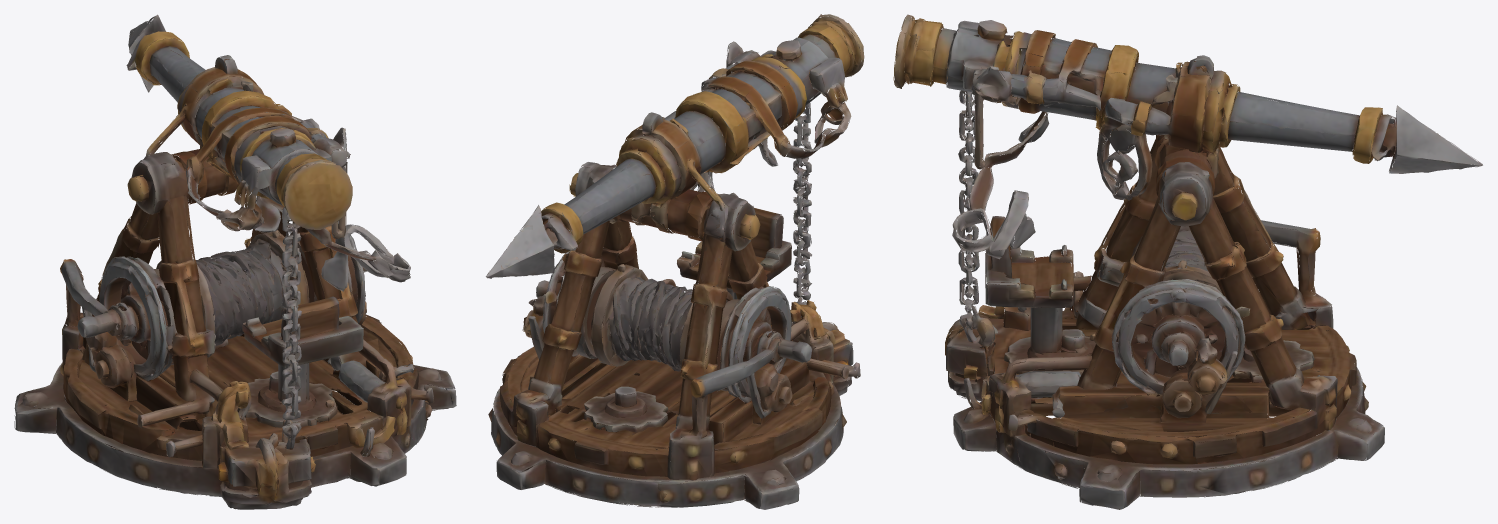
Rendered from whaler.glb.
The picture shows the model from 3 angles, left to right: view 1: azimuth 30°, elevation 25°; view 2: azimuth 150°, elevation 25°; view 3: azimuth 270°, elevation 25°; orthographic projection. The views are drawn at different scales.
Parts seen in each view (by area): view 1: head, base, gun; view 2: head, gun, base; view 3: head, gun, base.
Boxes of the visible parts, <box> form: head: <box>60,108,434,485</box>; base: <box>14,344,456,509</box>; gun: <box>126,14,367,274</box>; head: <box>500,16,864,479</box>; gun: <box>486,14,839,278</box>; base: <box>488,345,853,509</box>; head: <box>904,14,1356,462</box>; gun: <box>893,17,1482,204</box>; base: <box>945,325,1384,509</box>.
Bounding box in the file's own units: 2.53 × 2.4 × 3.43.
Materials: 1 (1 with a texture image).
